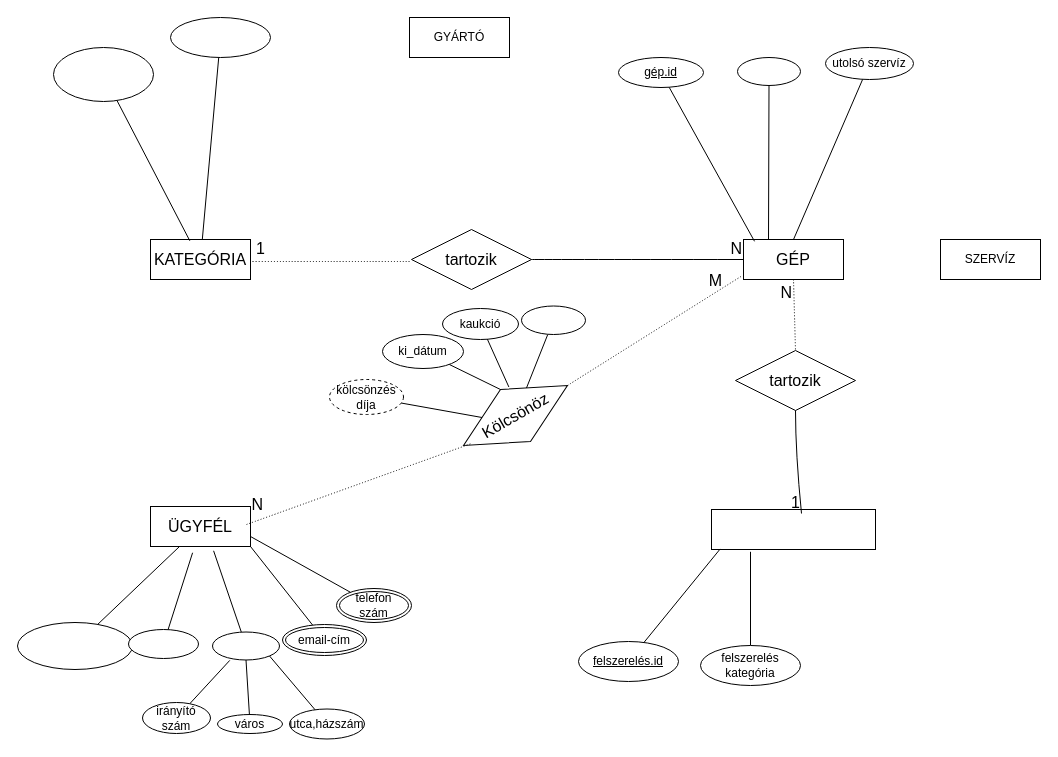
Some shapes in this 1058 by 757 pixel diagram are drawn without their labels. Here are the shapes that lost their labels. From the top down, the centre of each, then its label:
point 220,37: kategória.név
point 103,74: kategória.id
point 768,71: bérleti díj
point 553,319: vissza dátum
point 793,529: VÉDŐFELSZERELÉS
point 74,646: személy igazolvány szám
point 163,643: Név
point 246,645: Lakcím
